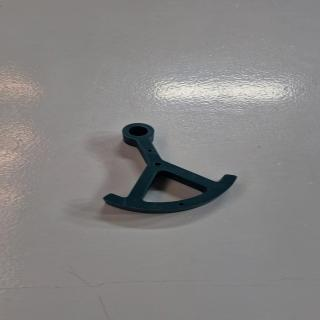haptic: (101, 122, 238, 214)
